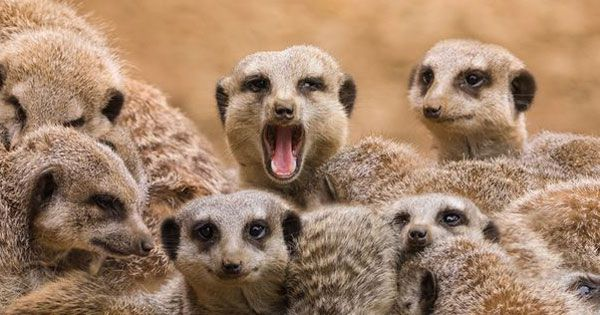meerkat: (142, 178, 304, 315)
